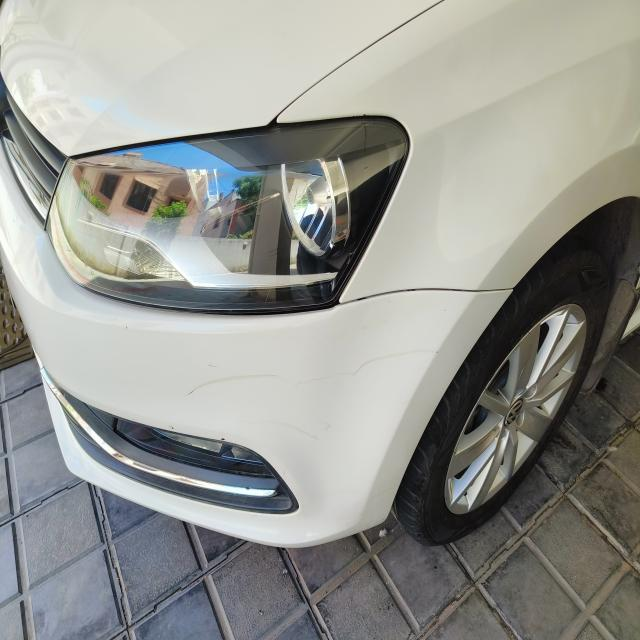scratch: (182, 367, 315, 392), (341, 346, 442, 376), (277, 417, 333, 442)
